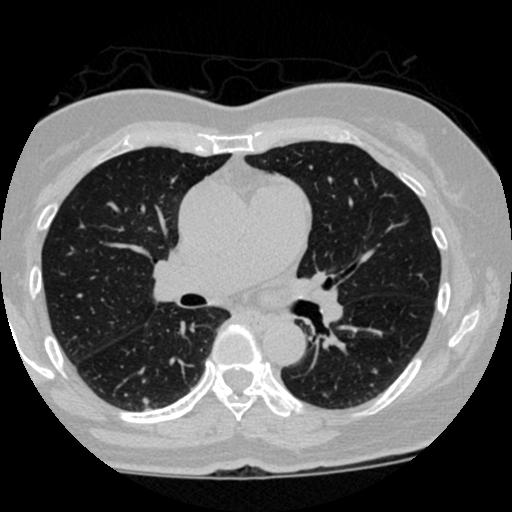nodule: (139, 394, 152, 407)
